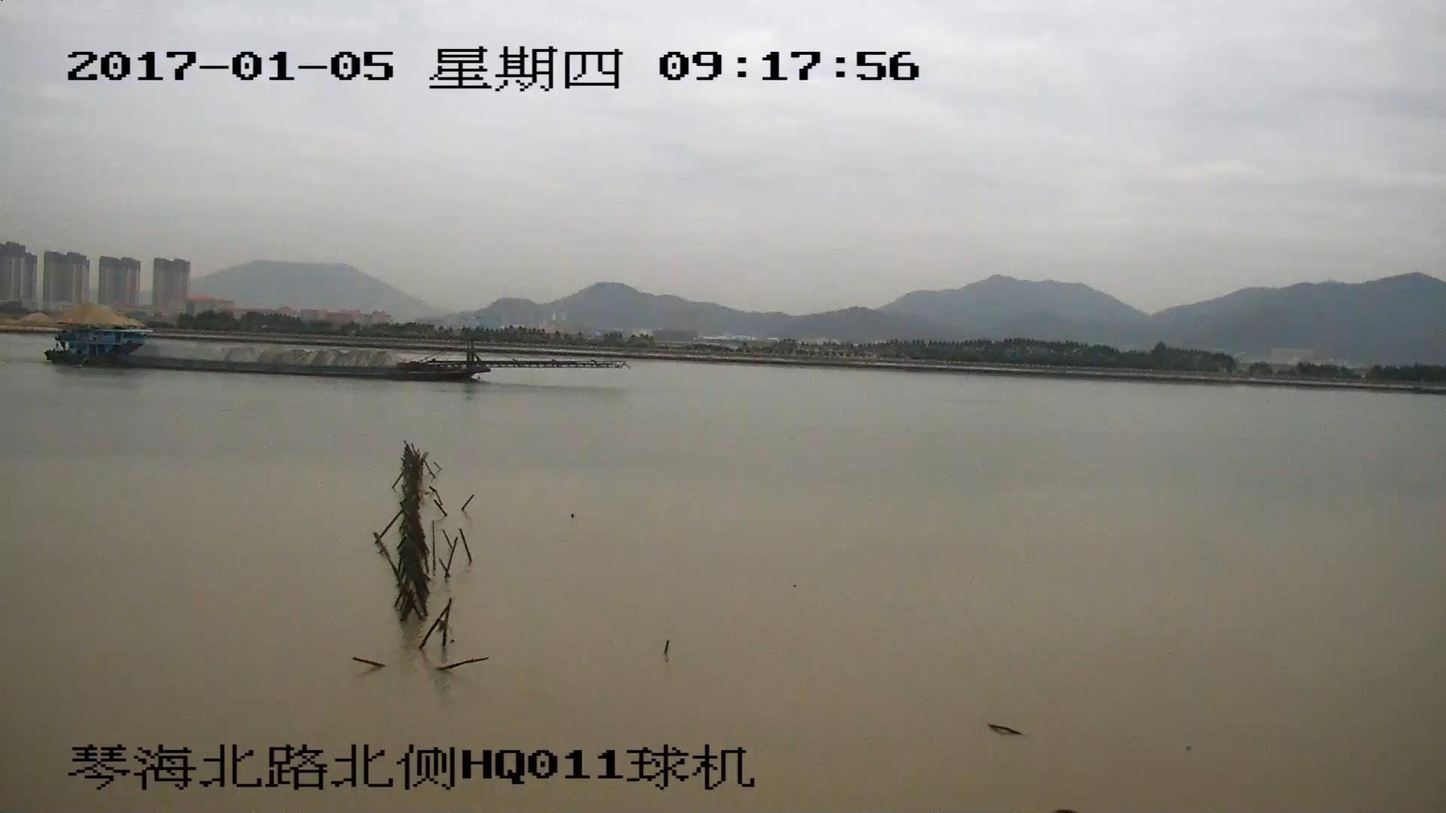ore carrier: (46, 324, 624, 380)
